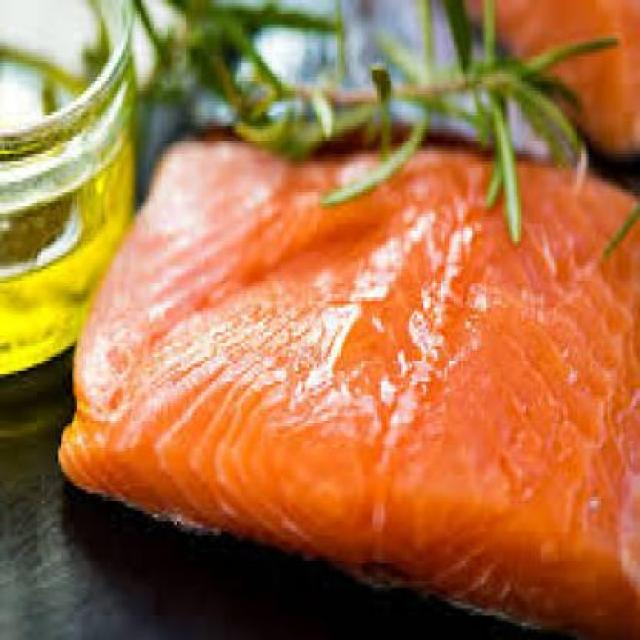salmon: (72, 112, 640, 620)
